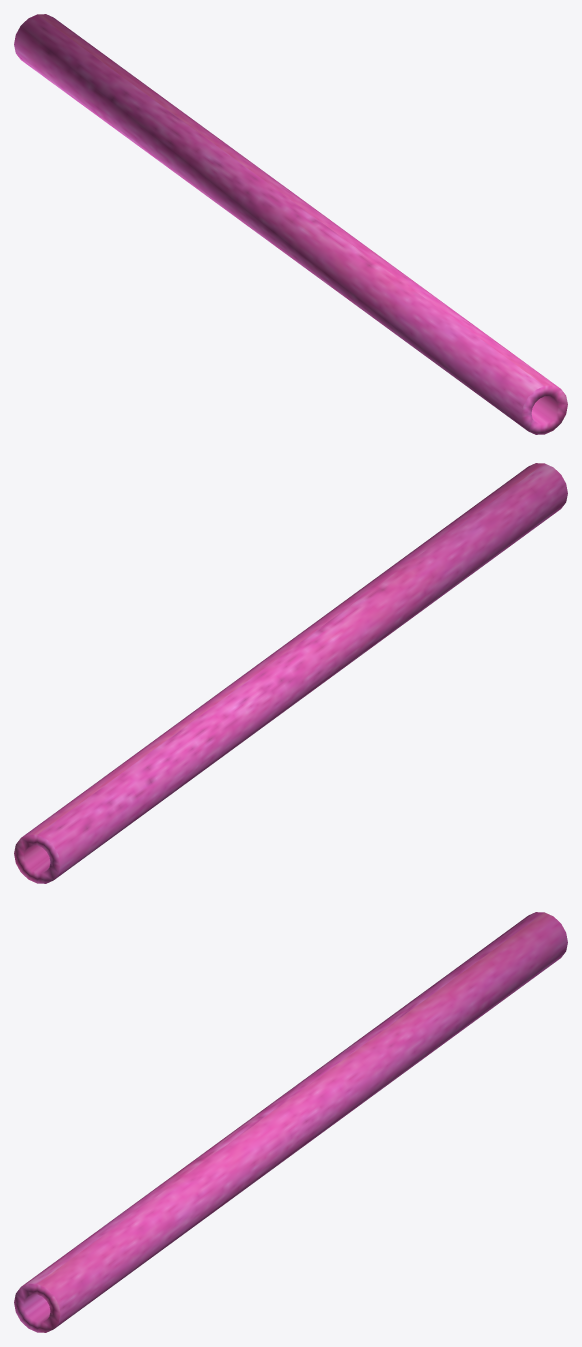
Rendered from WorldItem_AuthenticPoolNoodle.fbx.
3 views of the same model, one above another, from view 1: azimuth 30°, elevation 25°; view 2: azimuth 150°, elevation 25°; view 3: azimuth 330°, elevation 25° (orthographic).
Visible parts, largest first — view 1: PoolNoodle; view 2: PoolNoodle; view 3: PoolNoodle.
Boxes of the visible parts, x1,y1,x2,y2 form: PoolNoodle: (14,14,567,434); PoolNoodle: (14,463,567,883); PoolNoodle: (14,912,567,1332).
Bounding box in the file's own units: 0.0478 × 0.0478 × 0.9019.
